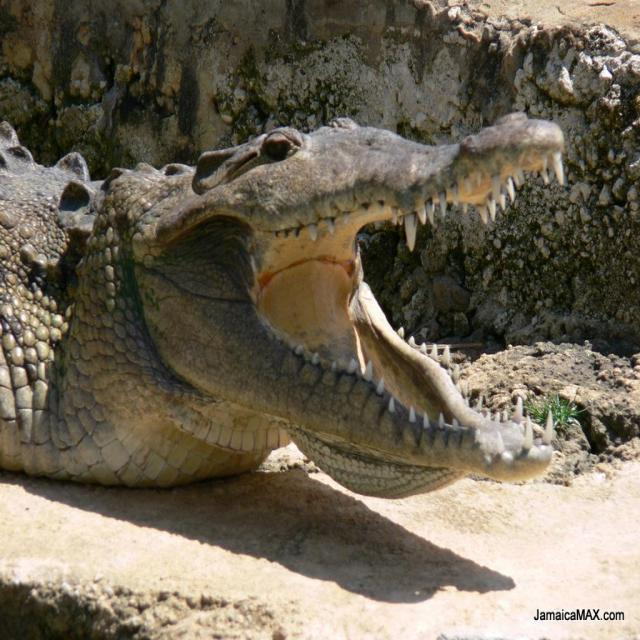crocodile: (0, 117, 563, 513)
